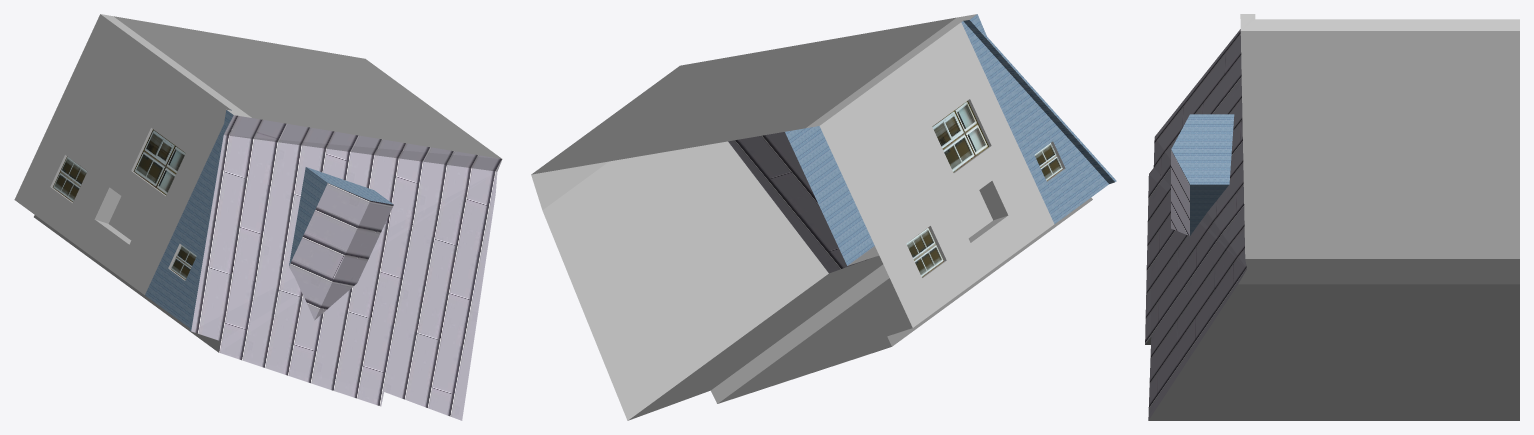
File: Lai_36_a1.obj
The picture shows the model from 3 angles, left to right: view 1: azimuth 30°, elevation 25°; view 2: azimuth 150°, elevation 25°; view 3: azimuth 270°, elevation 25°; orthographic projection. The views are drawn at different scales.
Visible parts, largest first — view 1: Lai_36_a1; view 2: Lai_36_a1; view 3: Lai_36_a1.
Boxes of the visible parts, bbox=[...] form: Lai_36_a1: bbox=[14, 14, 502, 420]; Lai_36_a1: bbox=[531, 14, 1116, 420]; Lai_36_a1: bbox=[1145, 14, 1519, 420].
Size of the model in its own units: 11.52 by 9.78 by 10.46.
